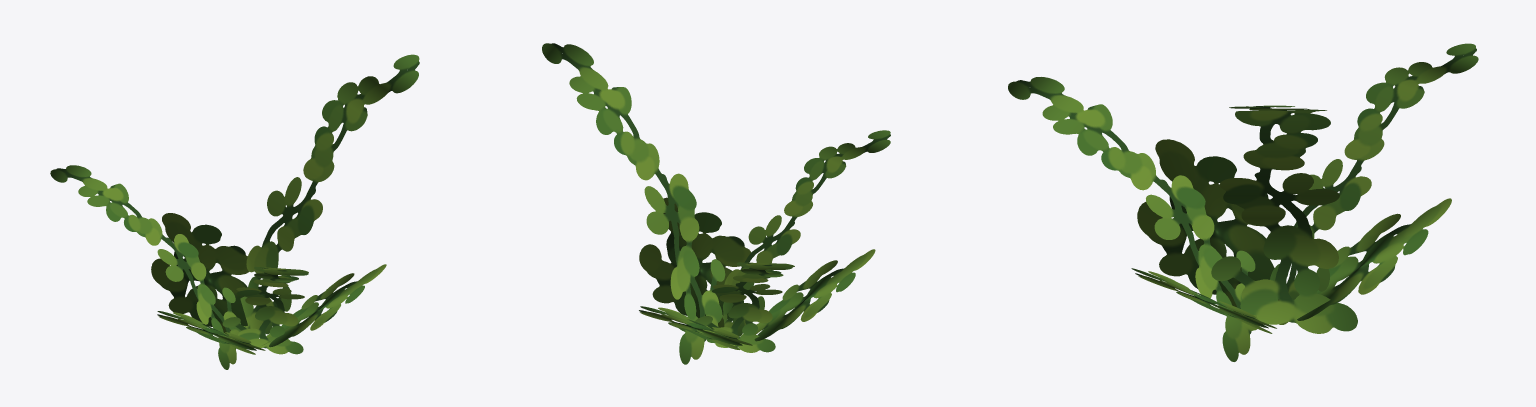
The model's file is plant6.fbx.
The picture shows the model from 3 angles, left to right: view 1: azimuth 30°, elevation 25°; view 2: azimuth 150°, elevation 25°; view 3: azimuth 270°, elevation 25°; orthographic projection. The views are drawn at different scales.
Parts seen in each view (by area): view 1: pPlane54; view 2: pPlane54; view 3: pPlane54.
Part boxes in pixels (box(x1,y1,x2,y2)): pPlane54: box(50, 54, 419, 369); pPlane54: box(542, 43, 890, 364); pPlane54: box(1008, 43, 1478, 361).
Bounding box in the file's own units: 0.3327 × 0.2424 × 0.3379.
